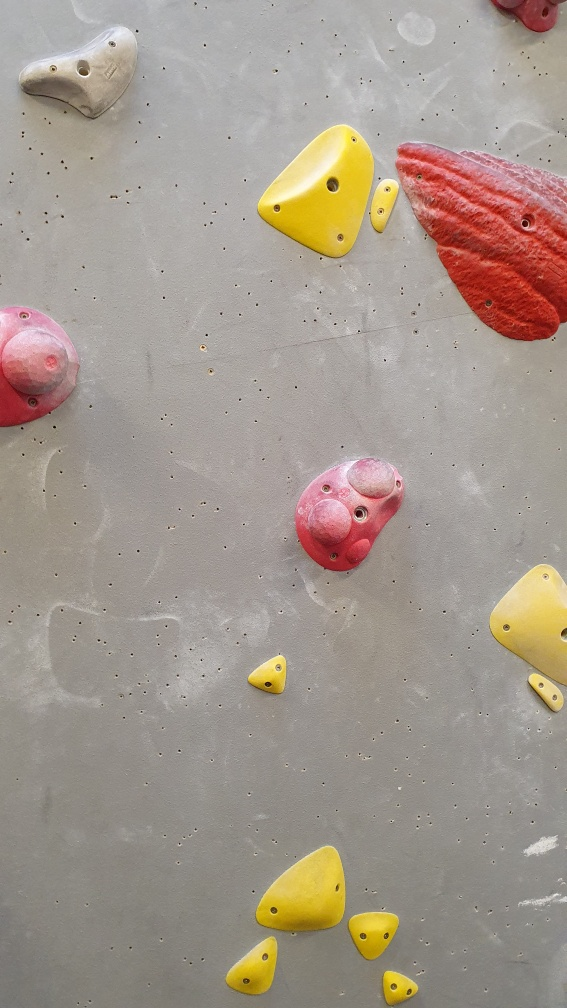Pinch: (522, 666, 565, 720), (367, 175, 404, 235)
Sloper: (1, 319, 76, 402), (300, 491, 358, 549), (345, 452, 399, 506)
